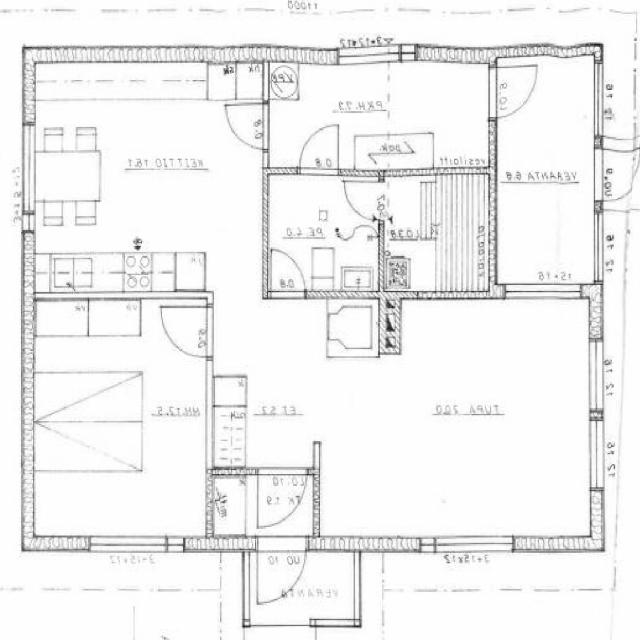door: (258, 532, 307, 605), (592, 147, 640, 203), (489, 68, 541, 118), (162, 307, 212, 356), (258, 466, 300, 524), (222, 104, 270, 150), (301, 126, 338, 177), (272, 249, 306, 298), (347, 181, 384, 218)
